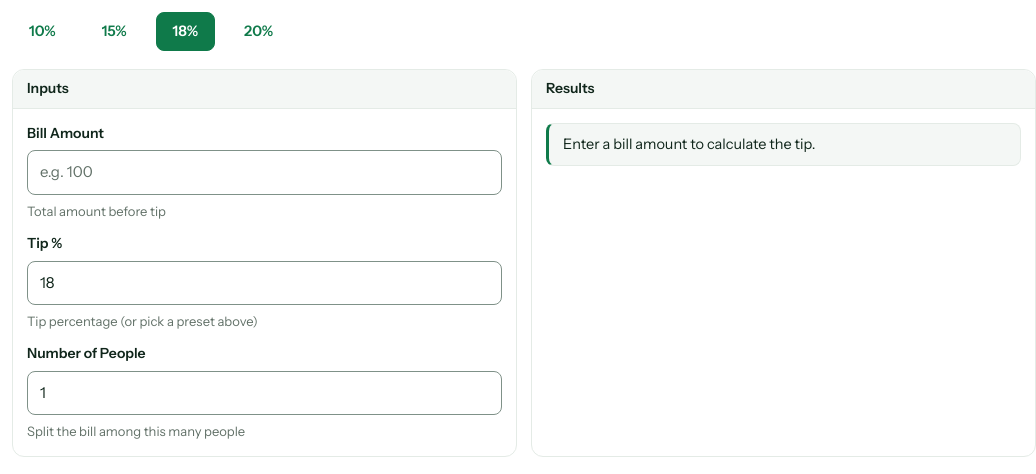
TipCalculator › preset buttons change tip percentage
This screenshot has width=1036, height=474.
In the number field with placeholder "e.g. 100": (264, 172) x1=27 y1=150 x2=502 y2=195, type "200"
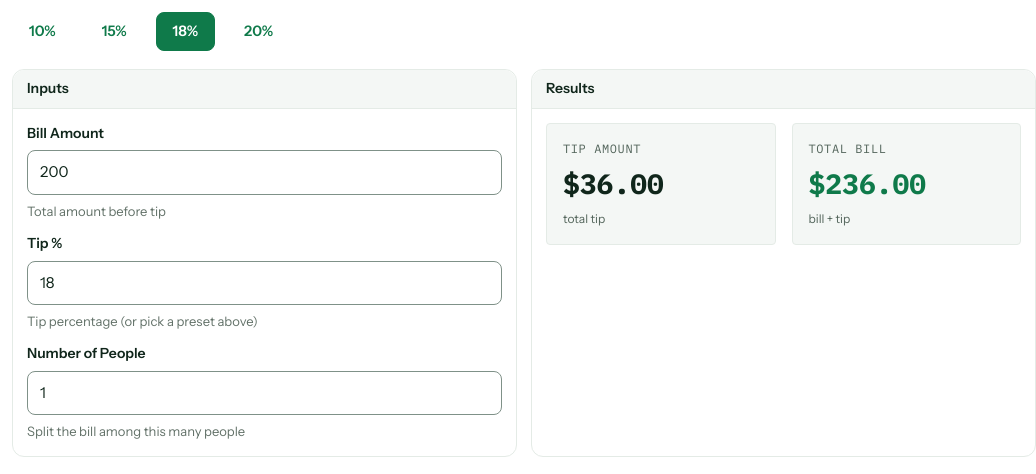
Click the button "20%": click(259, 31) x1=227 y1=12 x2=290 y2=51
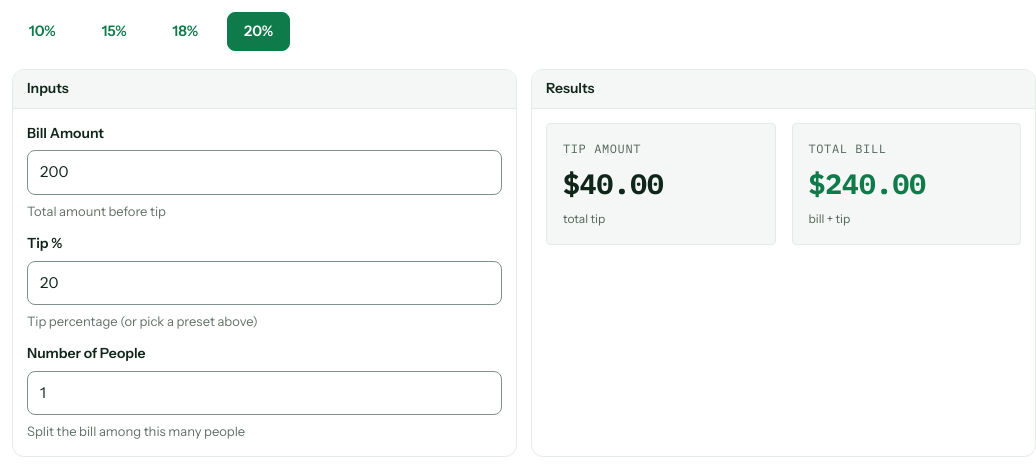
Check: the text "$40.00" is shown, box x1=563 y1=165 x2=664 y2=202
